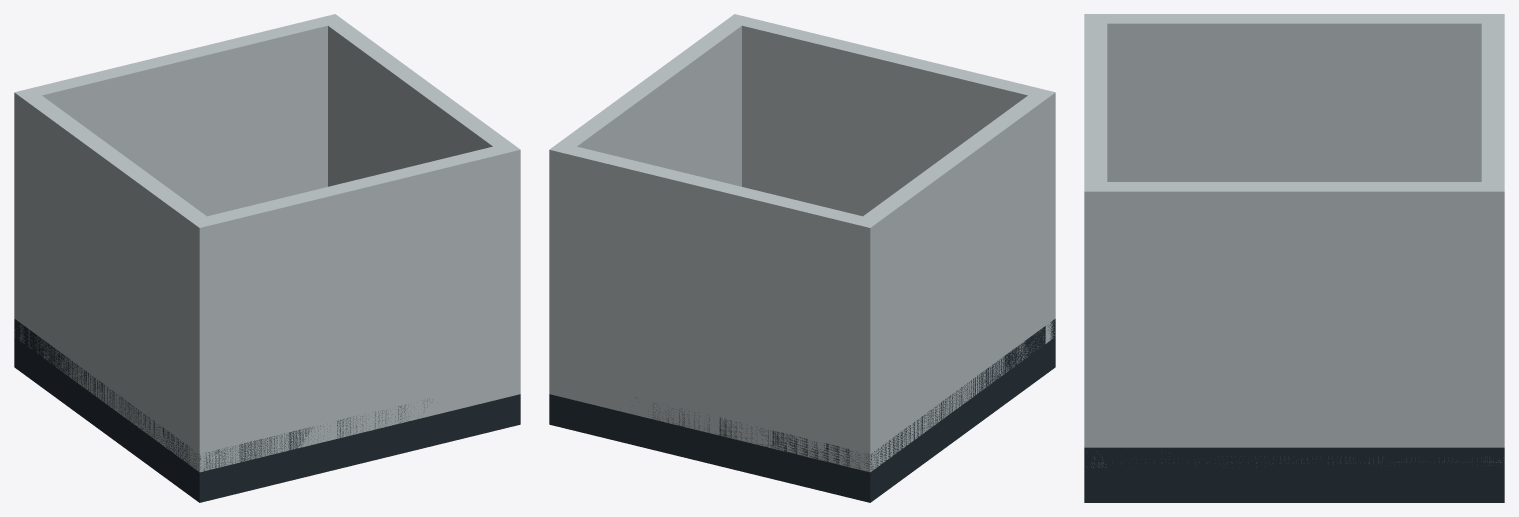
The model's file is crate.glb.
3 views of the same model, side by side, from view 1: azimuth 30°, elevation 25°; view 2: azimuth 150°, elevation 25°; view 3: azimuth 270°, elevation 25° (orthographic). The views are drawn at different scales.
Size of the model in its own units: 1.1 by 0.9 by 1.1.
